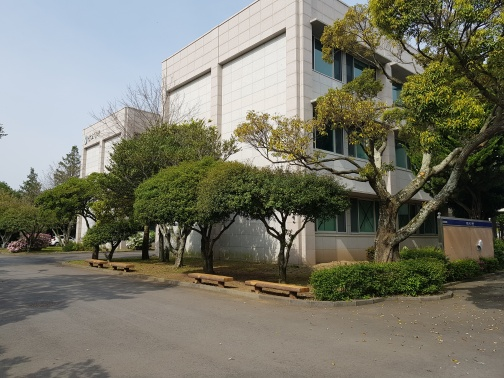College of Nursing: (163, 7, 443, 252), (75, 102, 135, 251)
